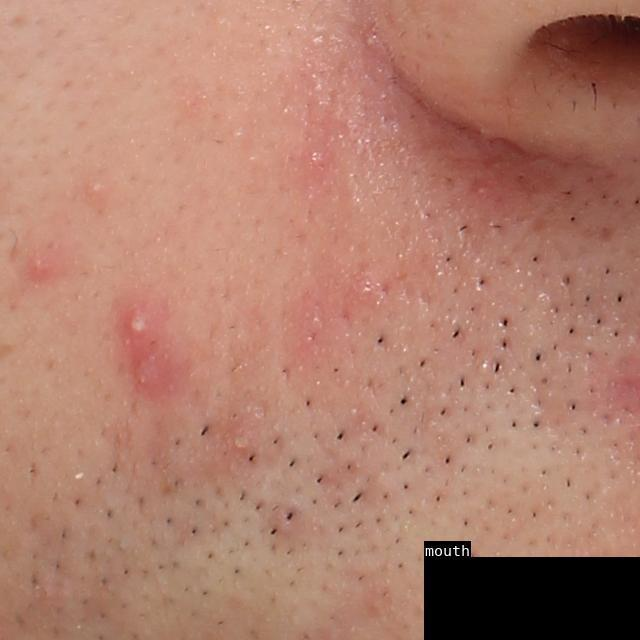comedo: (82, 180, 107, 201)
papule: (27, 255, 54, 284)
pustule: (120, 303, 158, 341)
